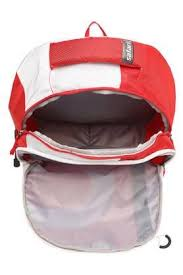backpack: (7, 20, 176, 252)
